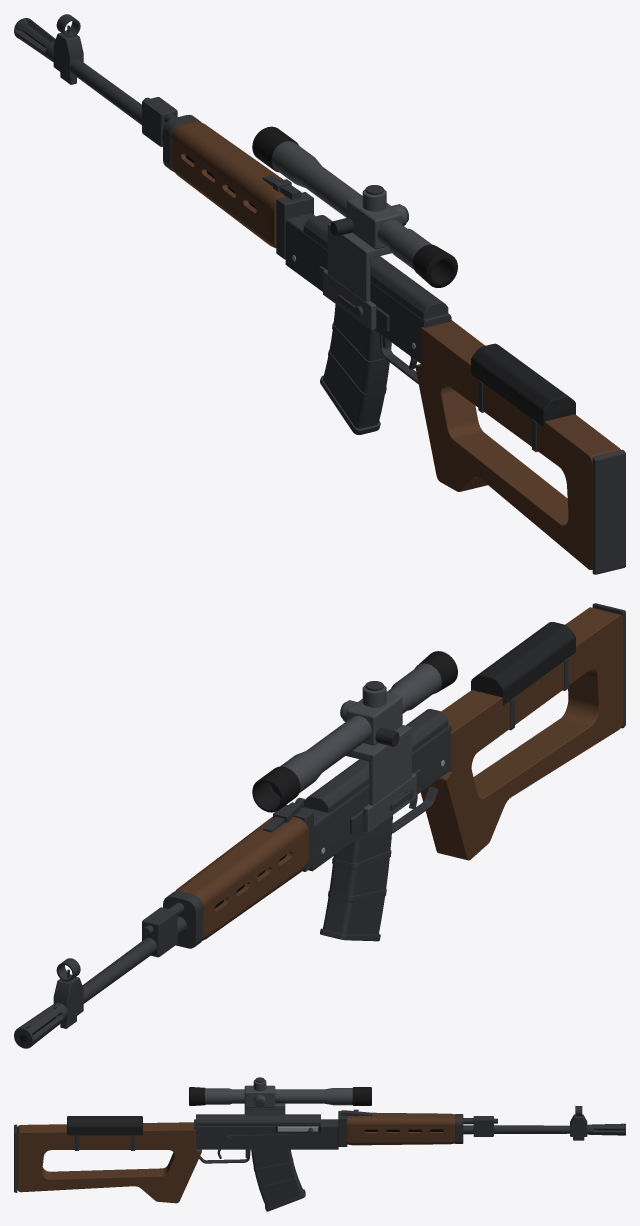
The model's file is svd.glb.
The picture shows the model from 3 angles, top to bottom: view 1: azimuth 30°, elevation 25°; view 2: azimuth 150°, elevation 25°; view 3: azimuth 270°, elevation 25°; orthographic projection. The views are drawn at different scales.
Visible parts, largest first — view 1: Body, Magazine; view 2: Body, Magazine; view 3: Body, Magazine.
Boxes of the visible parts, box(x1,y1,x2,y2) form: Body: box(14, 14, 625, 574); Magazine: box(320, 304, 391, 434); Body: box(14, 603, 625, 1048); Magazine: box(320, 815, 392, 941); Body: box(14, 1077, 625, 1203); Magazine: box(251, 1149, 305, 1211).
Bounding box in the file's own units: 0.0732 × 0.2816 × 1.2.
